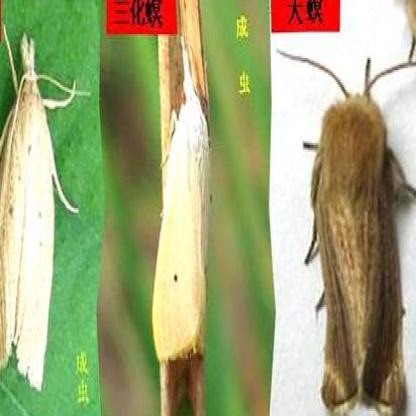stem-borer: (289, 46, 416, 416), (0, 26, 87, 395), (150, 39, 214, 367)
